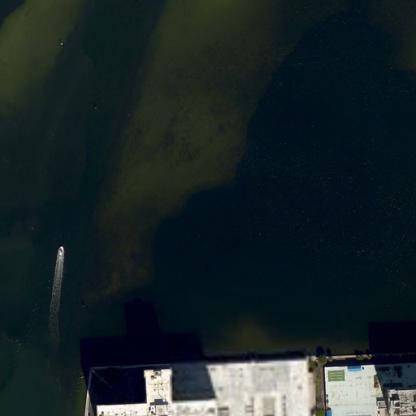ship: (39, 244, 44, 256)
